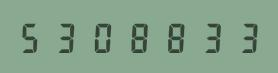eight: (122, 20, 156, 53), (157, 20, 191, 53)
five: (17, 20, 51, 53)
three: (52, 20, 86, 53), (192, 20, 226, 53), (227, 20, 261, 53)
zero: (87, 20, 121, 53)
